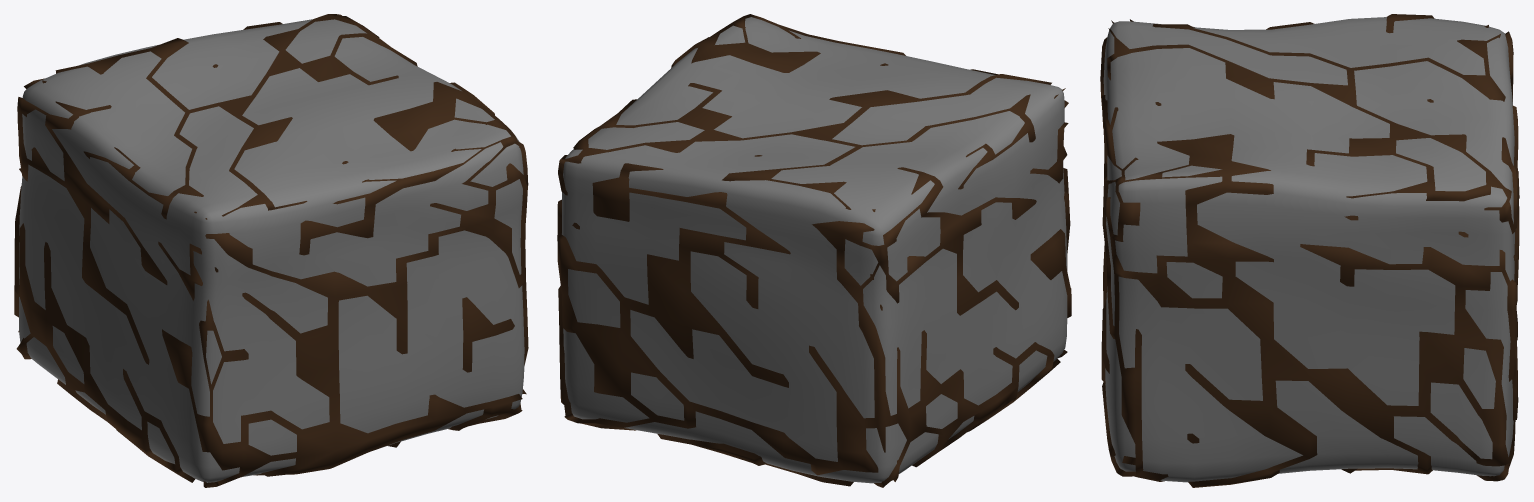
File: cube_minerai.fbx
The picture shows the model from 3 angles, left to right: view 1: azimuth 30°, elevation 25°; view 2: azimuth 150°, elevation 25°; view 3: azimuth 270°, elevation 25°; orthographic projection. The views are drawn at different scales.
Visible parts, largest first — view 1: Cube, Cube.002; view 2: Cube, Cube.002; view 3: Cube, Cube.002.
Part boxes in pixels (<box>): Cube: <box>19,19,524,482</box>; Cube.002: <box>14,14,528,487</box>; Cube: <box>562,17,1067,483</box>; Cube.002: <box>557,14,1071,487</box>; Cube: <box>1103,17,1514,482</box>; Cube.002: <box>1100,14,1519,487</box>.
Bounding box in the file's own units: 210 × 177 × 211.
